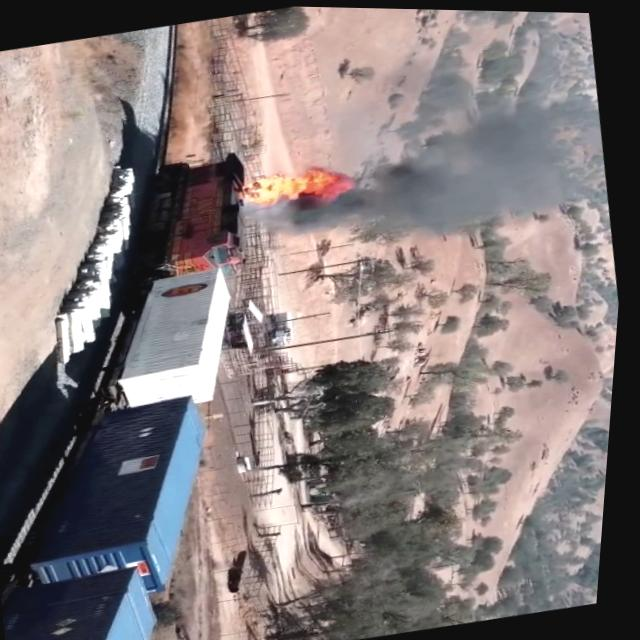fire: (235, 130, 371, 231)
smoke: (373, 105, 616, 240)
